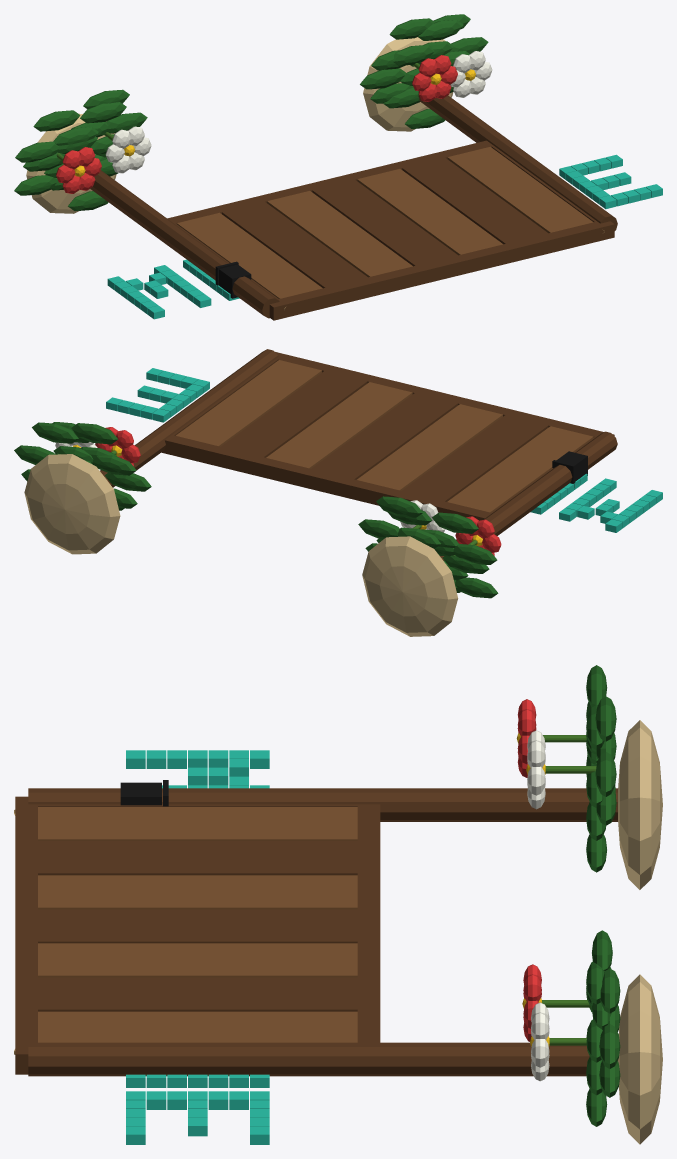
The model's file is welcome_sign.obj.
The picture shows the model from 3 angles, top to bottom: view 1: azimuth 30°, elevation 25°; view 2: azimuth 150°, elevation 25°; view 3: azimuth 270°, elevation 25°; orthographic projection. The views are drawn at different scales.
Size of the model in its own units: 4.83 by 1.14 by 3.45.
